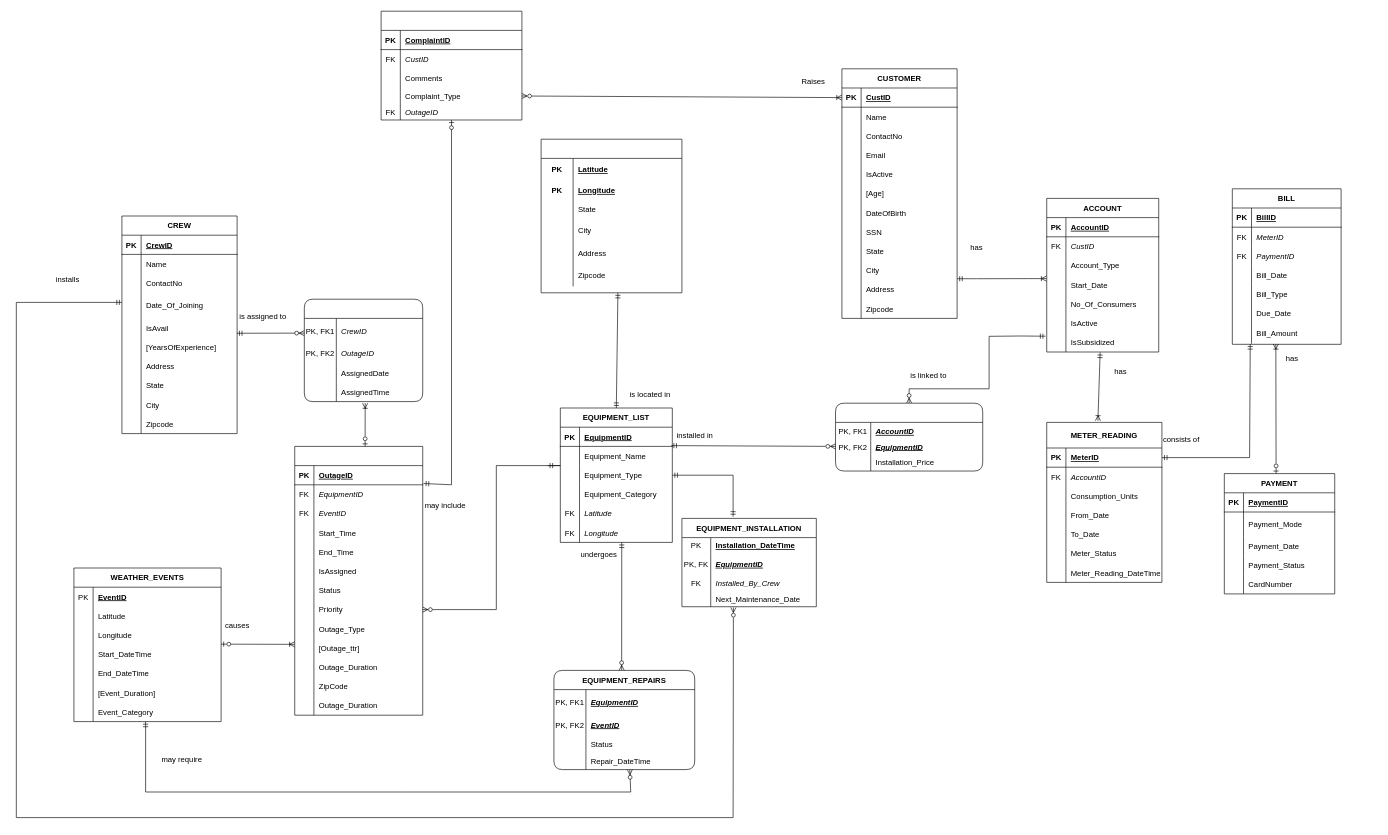
The diagram is 1388 pixels wide and 835 high, and some of its shapes have lost their labels. Each missing label, with the box of its shape:
ACCOUNT_EQUIPMENT: (835, 403, 983, 471)
CREW_ASSIGNMENTS: (304, 299, 423, 402)
CUSTOMER_COMPLAINTS: (380, 11, 522, 120)
EQUIPMENT_LOCATION: (540, 139, 682, 293)
OUTAGES: (294, 446, 423, 715)
